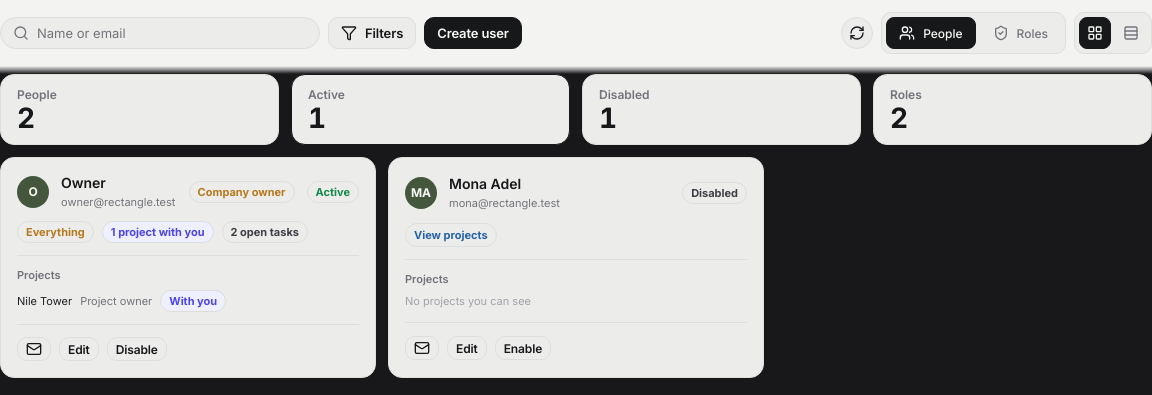
Scenario: TeamPage › offers a way out when no role matches
expect the text "Mona Adel" is shown: met, box top-left (449, 175), bottom-right (521, 192)
Click the radio button labelled "Roles" at (1020, 33), box top-left (980, 17), bottom-right (1061, 49)
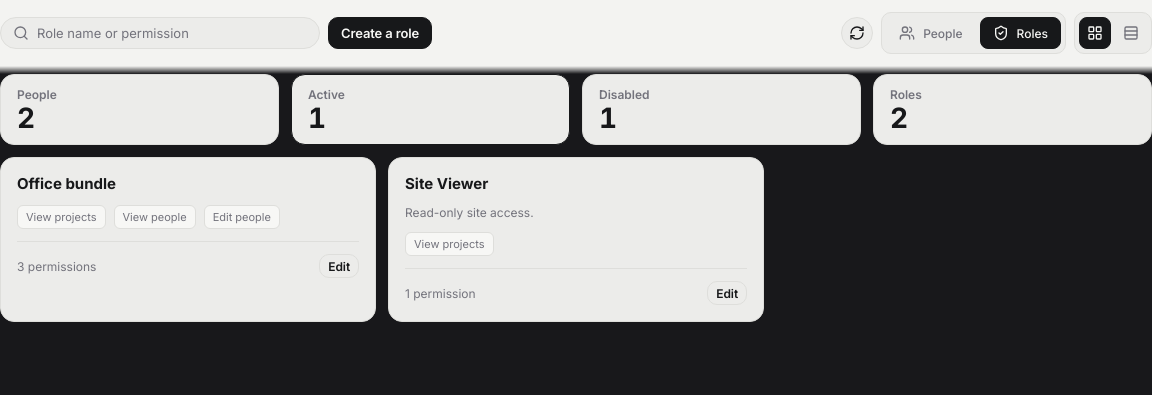
Type "zzzz" into the field named "Search roles" at (172, 33), box top-left (37, 25), bottom-right (307, 41)
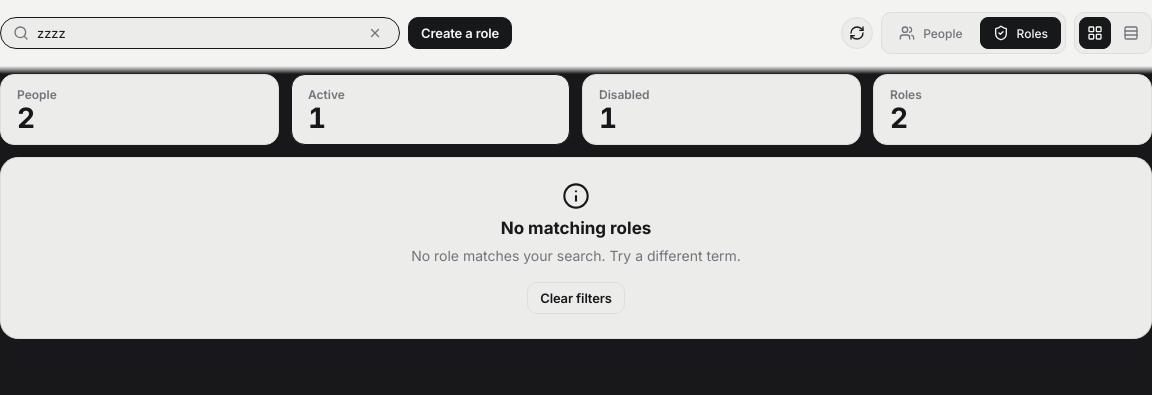
expect the text "No matching roles" is shown: met, box top-left (501, 218), bottom-right (651, 238)
Click the button "Clear filters" at (576, 298), box top-left (527, 282), bottom-right (625, 314)
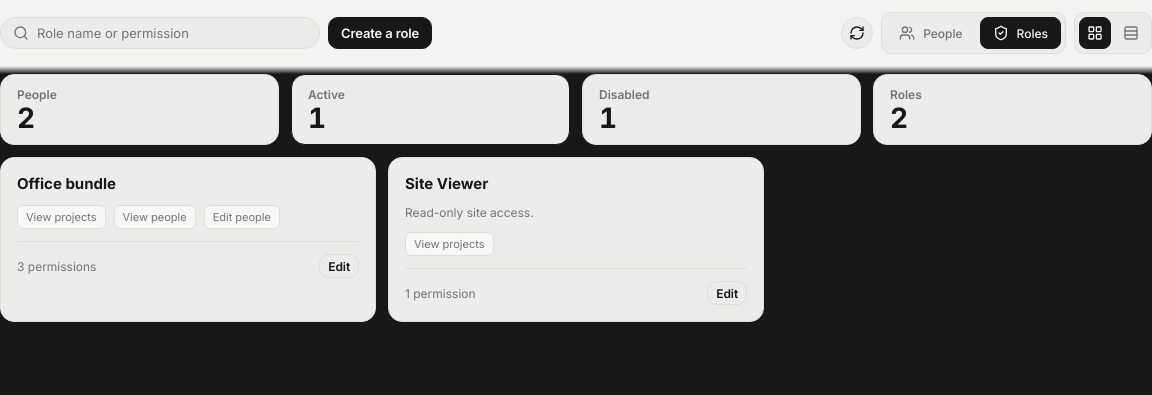
expect the text "Site Viewer" is shown: met, box top-left (405, 174), bottom-right (488, 193)
